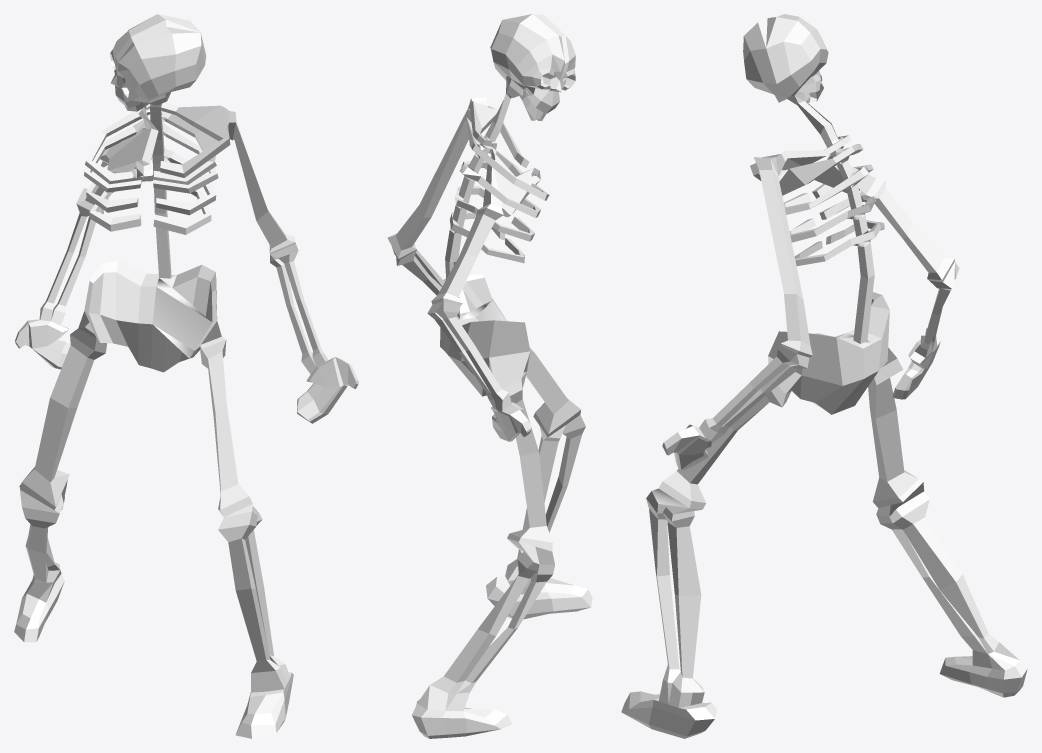
The model's file is SkeletonIdle(58).obj.
3 views of the same model, side by side, from view 1: azimuth 30°, elevation 25°; view 2: azimuth 150°, elevation 25°; view 3: azimuth 270°, elevation 25° (orthographic). The views are drawn at different scales.
Visible parts, largest first — view 1: Object002; view 2: Object002; view 3: Object002.
Part boxes in pixels (left/top/right/bottom): Object002: left=14, top=14, right=358, bottom=738; Object002: left=387, top=14, right=592, bottom=738; Object002: left=621, top=14, right=1027, bottom=738.
Size of the model in its own units: 391 by 1121 by 603.
